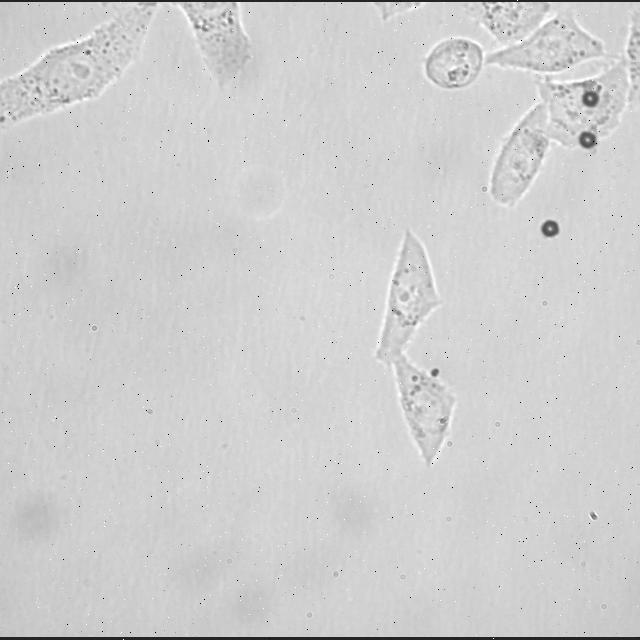microbeads: (573, 129, 599, 155), (538, 216, 560, 242), (583, 85, 601, 113)
